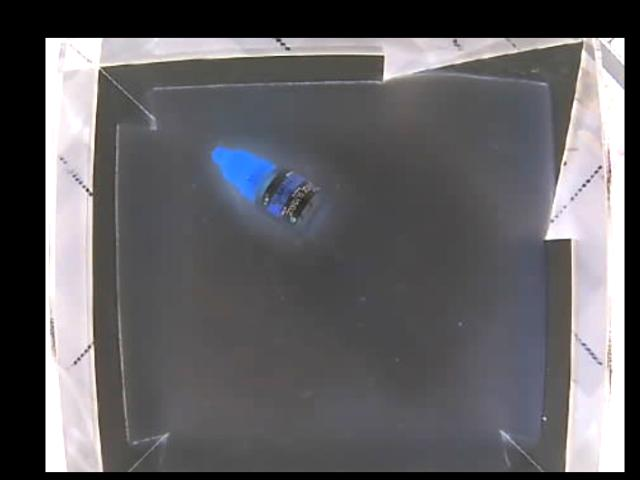Bottle: (206, 144, 330, 236)
